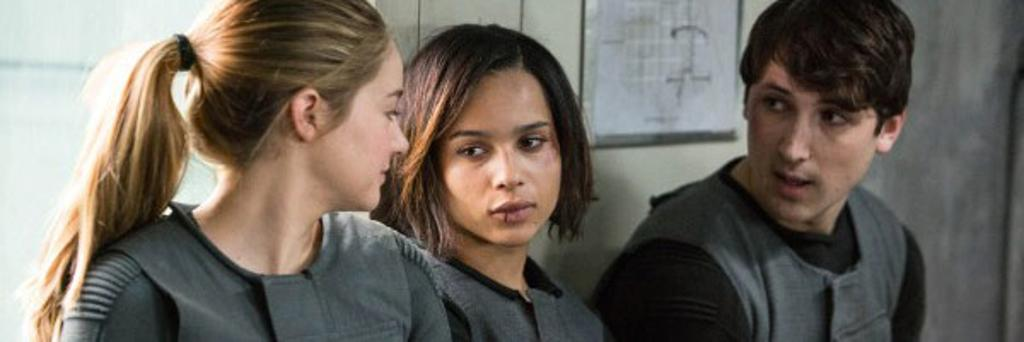face: (440, 72, 562, 242), (750, 46, 862, 220), (310, 50, 420, 216)
